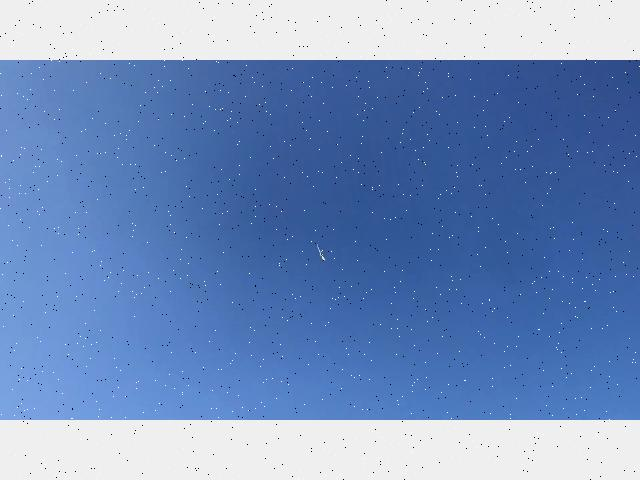Anti-Drone: (306, 226, 342, 275)
